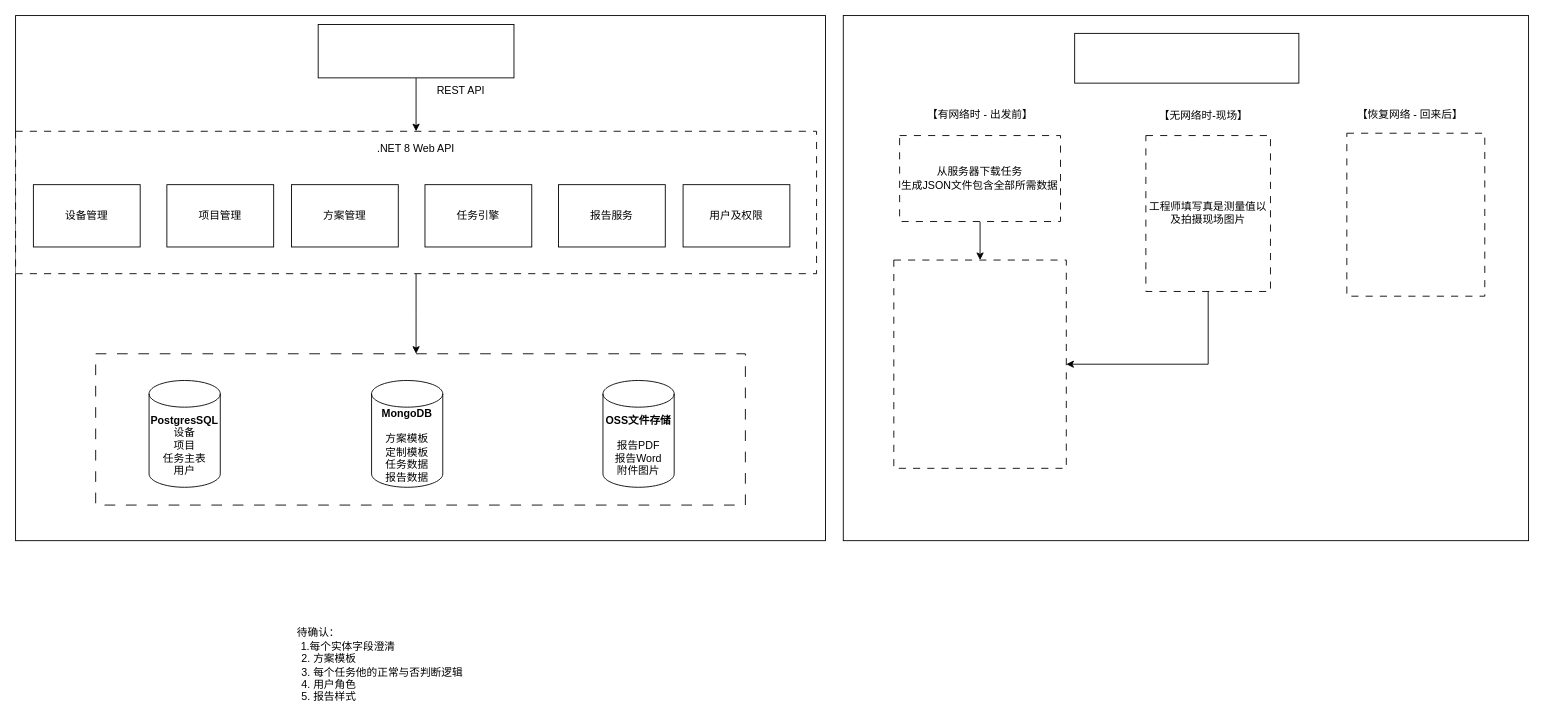
Image size: 1544x725. Some labels were removed from this diagram. Here are the shapes that lost their labels. From the top down, the centre of each, then its label:
At (415,51): "客户端（Web）".
At (1186,57): "移动端（IPad）".
At (1415,214): "1. 上传所有现场图片 （按照taskId+nodeId命名） 2. 上传Json文件 3. 服务器解析Json文件后生产报告".
At (979,363): "本地JSON文件 task-001.json task-002.json task-003.json syncStatus: 1.未上传 2.上传中 3.已上传".
